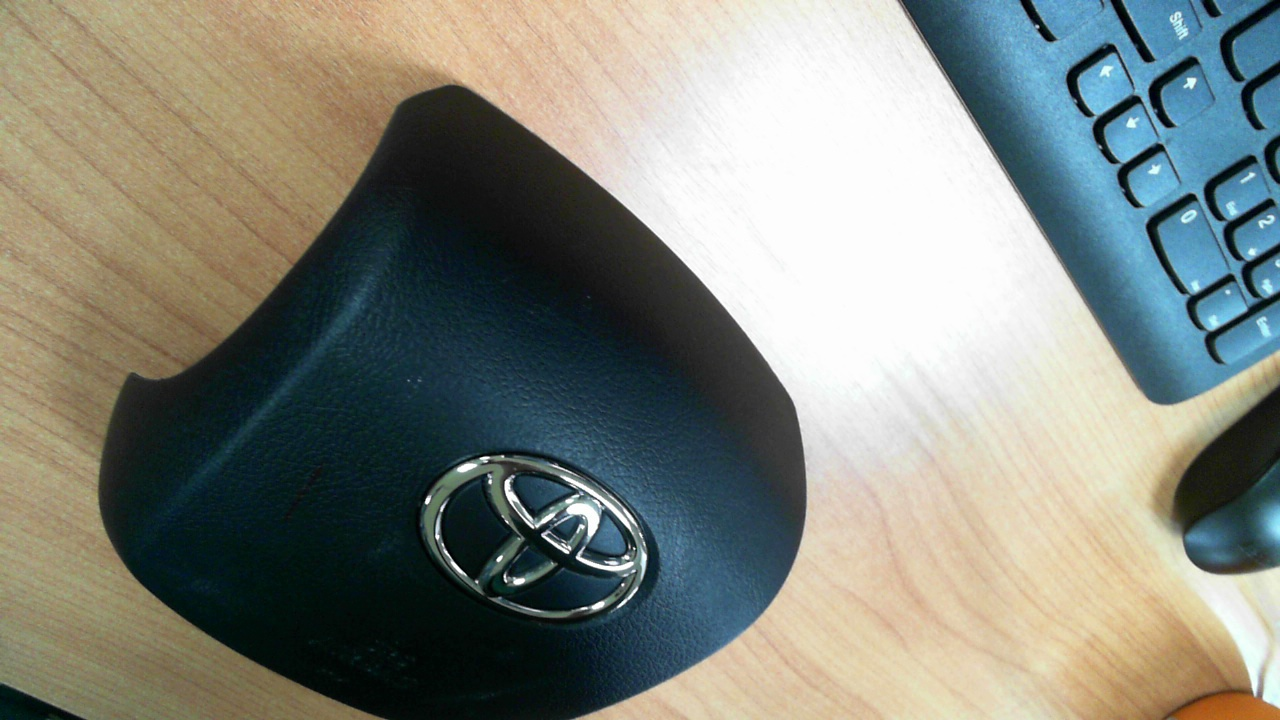Airbag: (96, 84, 808, 719)
Toyota: (419, 454, 648, 619)
